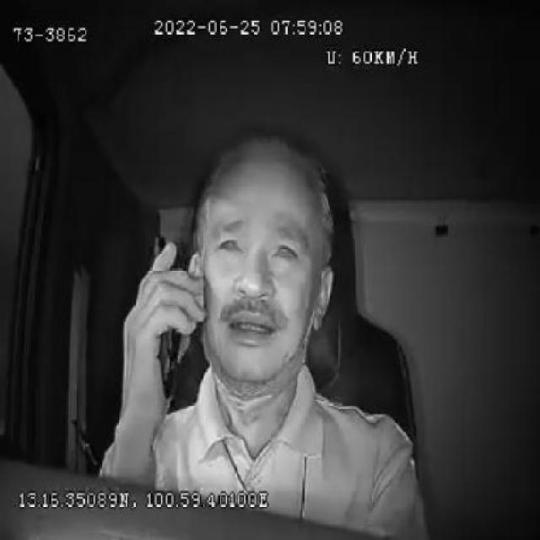phone: (152, 233, 186, 399)
